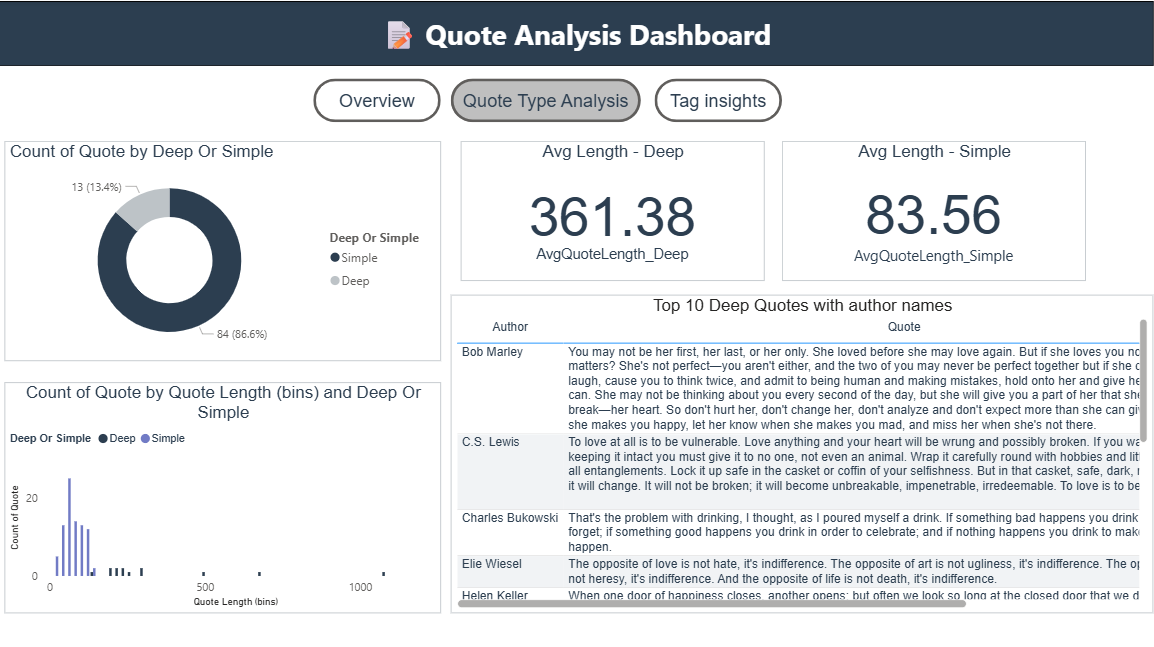

The page's visual inventory and layout, read from the dashboard file:
{"tool":"powerbi","page":{"name":"Quote Type Analysis","canvas":[1280,720],"ordinal":2},"visuals":[{"type":"actionButton","box":[347.2,85.1,140,48],"z":0},{"type":"actionButton","box":[498.1,85.1,208.6,48],"z":1000},{"type":"actionButton","box":[721.8,85.1,140,48],"z":2000},{"type":"donutChart","fields":{"Category":["Clean Quote data.Deep Or Simple"],"Y":["Clean Quote data.Quote"]},"box":[8.2,153.7,478.9,241.5],"z":3000},{"type":"card","title":"Avg Length - Deep","fields":{"Values":["Clean Quote data.AvgQuoteLength_Deep"]},"box":[509.1,153.7,333.4,153.7],"z":4000},{"type":"card","title":"Avg Length - Simple","fields":{"Values":["Clean Quote data.AvgQuoteLength_Simple"]},"box":[861.8,153.7,333.4,153.7],"z":5000},{"type":"clusteredColumnChart","fields":{"Category":["Clean Quote data.Quote Length (bins)"],"Y":["Clean Quote data.Quote"],"Series":["Clean Quote data.Deep Or Simple"]},"box":[8.2,418.5,478.9,253.9],"z":6000},{"type":"tableEx","title":"Top 10 Deep Quotes with author names","fields":{"Values":["Clean Quote data.Author","Clean Quote data.Quote","Clean Quote data.Quote Length"]},"box":[498.1,322.5,771.2,349.9],"z":7000},{"type":"shape","box":[0,0,1269.9,71.6],"z":8000}]}

Visuals, with their boxes in screenshot pixels (x1, y1, x2, y2), scaled from the page's 1280x720 canvas onto the 1154x647 screenshot:
actionButton: left=313, top=76, right=439, bottom=120
actionButton: left=449, top=76, right=637, bottom=120
actionButton: left=651, top=76, right=777, bottom=120
donutChart - Clean Quote data.Deep Or Simple x Clean Quote data.Quote: left=7, top=138, right=439, bottom=355
"Avg Length - Deep" card: left=459, top=138, right=760, bottom=276
"Avg Length - Simple" card: left=777, top=138, right=1078, bottom=276
clusteredColumnChart - Clean Quote data.Quote Length (bins) x Clean Quote data.Quote: left=7, top=376, right=439, bottom=604
"Top 10 Deep Quotes with author names" tableEx: left=449, top=290, right=1144, bottom=604
shape: left=0, top=0, right=1145, bottom=64
